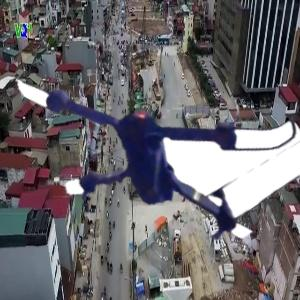drone: (13, 9, 283, 279)
